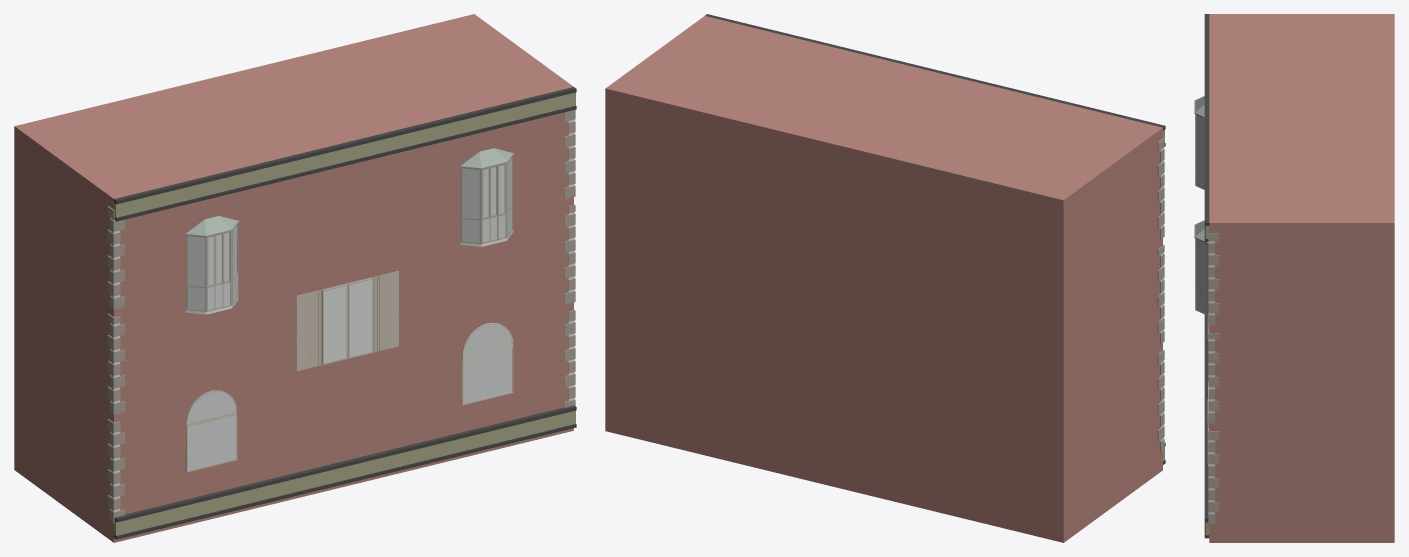
File: last_build_5.fbx
3 views of the same model, side by side, from view 1: azimuth 30°, elevation 25°; view 2: azimuth 150°, elevation 25°; view 3: azimuth 270°, elevation 25° (orthographic). The views are drawn at different scales.
Parts seen in each view (by area): view 1: building_5; view 2: building_5; view 3: building_5.
Boxes of the visible parts, x1,y1,x2,y2 form: building_5: (14,14,576,542); building_5: (605,14,1165,542); building_5: (1194,14,1394,542).
Bounding box in the file's own units: 112 × 80 × 45.42.
